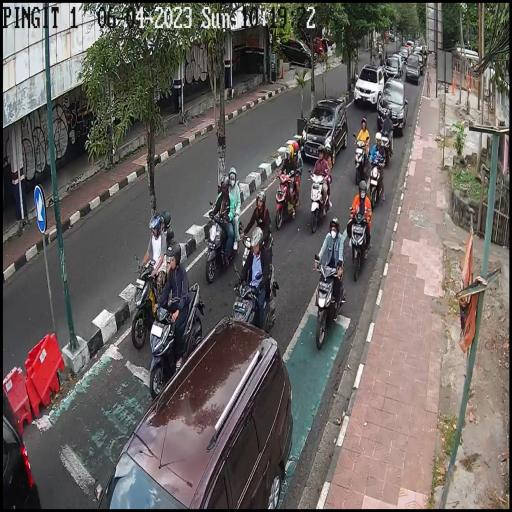mobil: (300, 96, 349, 167), (378, 78, 408, 137), (354, 62, 385, 110), (383, 56, 401, 83), (406, 54, 420, 87)
motor: (149, 284, 203, 396), (228, 266, 280, 341), (309, 251, 347, 351), (205, 200, 242, 278), (130, 252, 157, 350), (346, 202, 372, 284), (306, 166, 329, 236), (274, 168, 296, 230), (368, 150, 386, 210), (352, 132, 370, 182), (379, 123, 392, 166)
